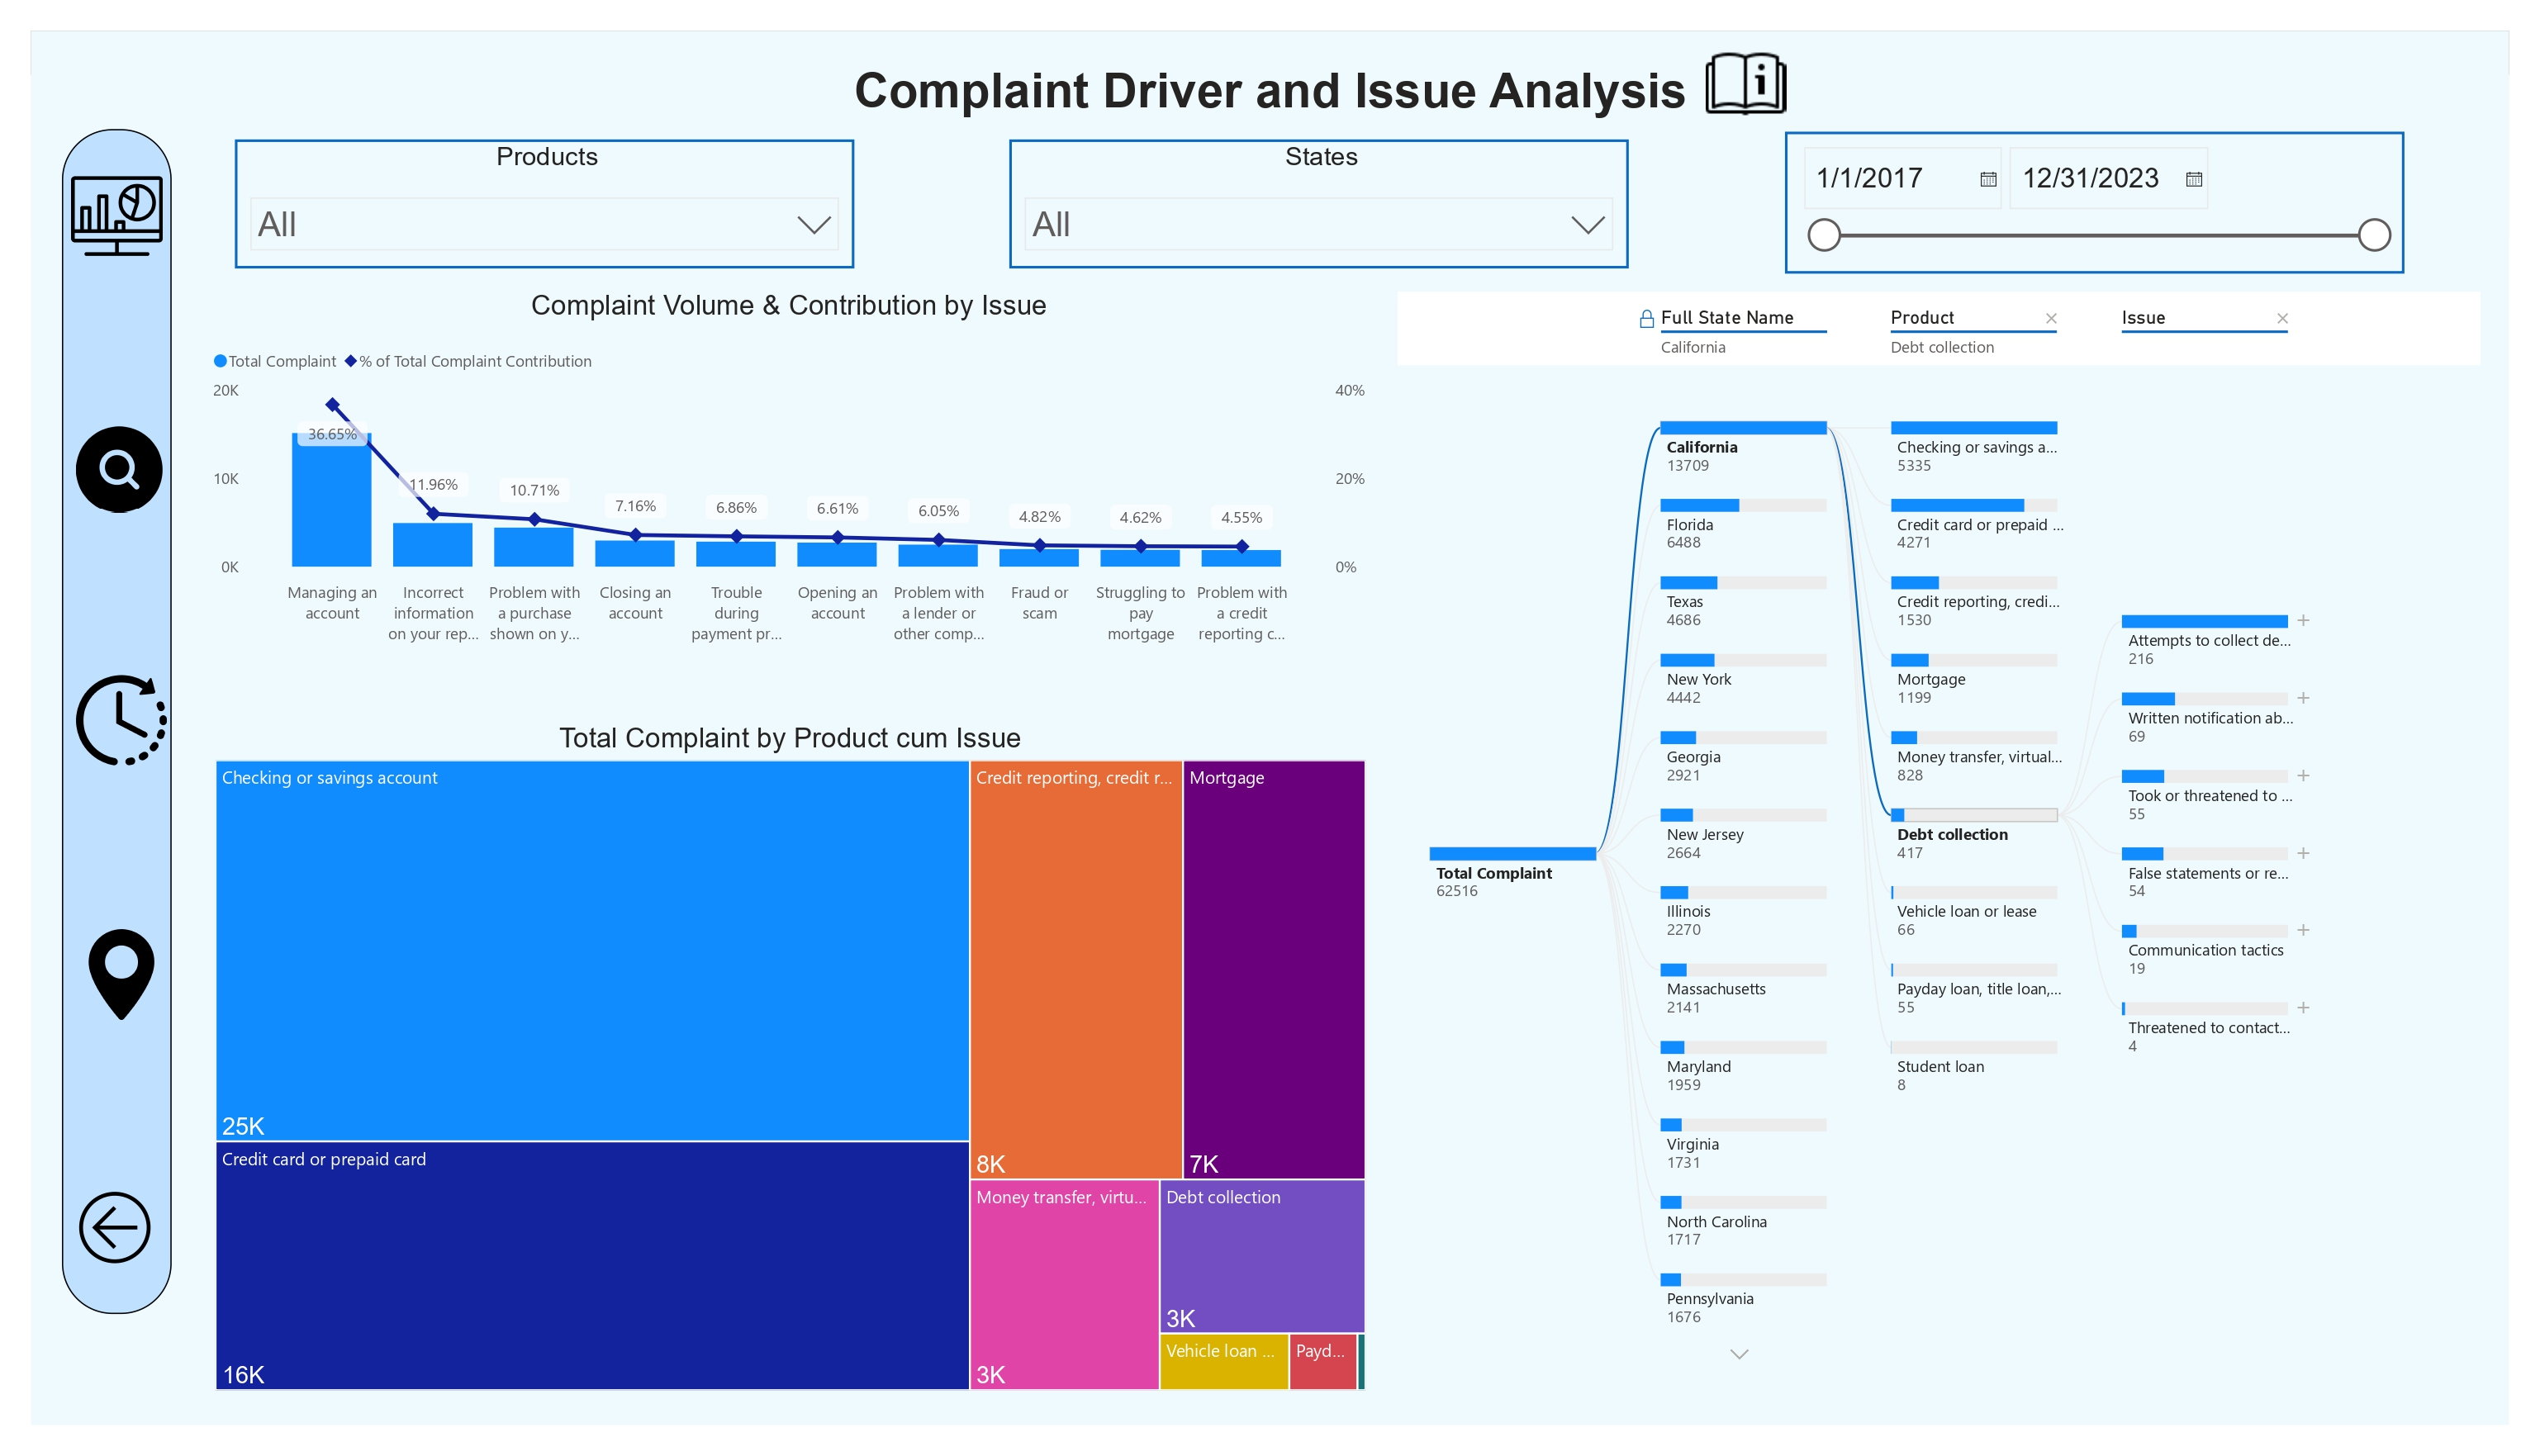

The page's visual inventory and layout, read from the dashboard file:
{"tool":"powerbi","page":{"name":"ROOT CAUSE","canvas":[1920,1080],"ordinal":2},"visuals":[{"type":"textbox","box":[607.5,20,705,62.5],"z":0},{"type":"shape","box":[23.8,75.6,85,918],"z":1000},{"type":"image","box":[30.2,108,71.3,71.3],"z":3000},{"type":"image","box":[35,499.4,70,70],"z":4000},{"type":"image","box":[35,695.8,70,70],"z":5000},{"type":"image","box":[32.5,305.6,70,67.5],"z":6000},{"type":"actionButton","box":[30.2,892.1,72.5,70],"z":7000},{"type":"lineStackedColumnComboChart","title":"Complaint Volume & Contribution by Issue","fields":{"Category":["Dim_Issues.Issue"],"Y":["Fact_Customer_Complaint.Total Complaint"],"Y2":["Fact_Customer_Complaint.% of Total Complaint Contribution"]},"box":[136.1,200.9,902.9,280.8],"z":8000},{"type":"treemap","title":"Total Complaint by Product cum Issue","fields":{"Group":["Dim_Product.Product","Dim_Issues.Issue"],"Values":["Fact_Customer_Complaint.Total Complaint"]},"box":[138.2,535.7,900.7,522.7],"z":9000},{"type":"decompositionTreeVisual","fields":{"Analyze":["Fact_Customer_Complaint.Total Complaint"],"ExplainBy":["Dim_State.Full State Name","Dim_Product.Product","Dim_Issues.Issue","Dim_Issues.Sub-issue","Dim_Product.Sub-product"]},"box":[1058.4,200.9,840.2,851],"z":10000},{"type":"slicer","title":"Date Range","fields":{"Values":["Dim_Date.Date"]},"box":[1358.8,77.6,480,110.2],"z":11000},{"type":"slicer","title":"States","fields":{"Values":["Dim_State.Full State Name"]},"box":[758.3,84,480,100],"z":12000},{"type":"slicer","title":"Products","fields":{"Values":["Dim_Product.Product"]},"box":[157.8,84,480,100],"z":13000},{"type":"image","box":[1297.5,2.5,62.5,75],"z":13001}]}

Visuals, with their boxes on the page's 1920x1080 design canvas (x1, y1, x2, y2). These are canvas units, not pixel positions in the 2540x1456 screenshot, which may show the page scaled, cropped or inside an application window:
textbox: 608:20:1312:82
shape: 24:76:109:994
image: 30:108:102:179
image: 35:499:105:569
image: 35:696:105:766
image: 32:306:102:373
actionButton: 30:892:103:962
"Complaint Volume & Contribution by Issue" lineStackedColumnComboChart: 136:201:1039:482
"Total Complaint by Product cum Issue" treemap: 138:536:1039:1058
decompositionTreeVisual - Fact_Customer_Complaint.Total Complaint x Dim_State.Full State Name: 1058:201:1899:1052
"Date Range" slicer: 1359:78:1839:188
"States" slicer: 758:84:1238:184
"Products" slicer: 158:84:638:184
image: 1298:2:1360:78
